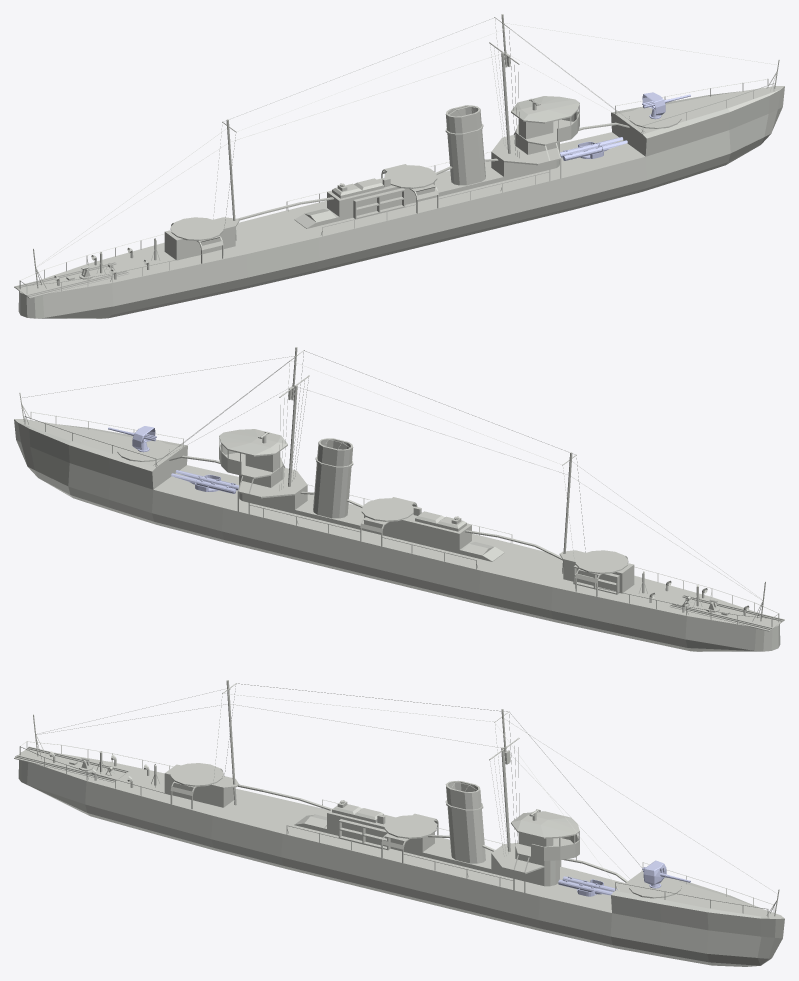
The model's file is 若竹号LowPoly.fbx.
3 views of the same model, one above another, from view 1: azimuth 30°, elevation 25°; view 2: azimuth 150°, elevation 25°; view 3: azimuth 330°, elevation 25° (orthographic).
Parts seen in each view (by area): view 1: 船体, 鱼雷-2x533, 主炮-1x120; view 2: 船体, 鱼雷-2x533, 主炮-1x120; view 3: 船体, 鱼雷-2x533, 主炮-1x120.
Part boxes in pixels (bbox=[...]): 船体: bbox=[14, 14, 784, 318]; 鱼雷-2x533: bbox=[560, 137, 627, 160]; 主炮-1x120: bbox=[642, 92, 690, 119]; 船体: bbox=[14, 347, 784, 651]; 鱼雷-2x533: bbox=[171, 470, 238, 493]; 主炮-1x120: bbox=[108, 426, 156, 452]; 船体: bbox=[14, 680, 784, 966]; 鱼雷-2x533: bbox=[558, 876, 617, 896]; 主炮-1x120: bbox=[642, 860, 690, 888].
Size of the model in its own units: 521 by 5950 by 1516.
